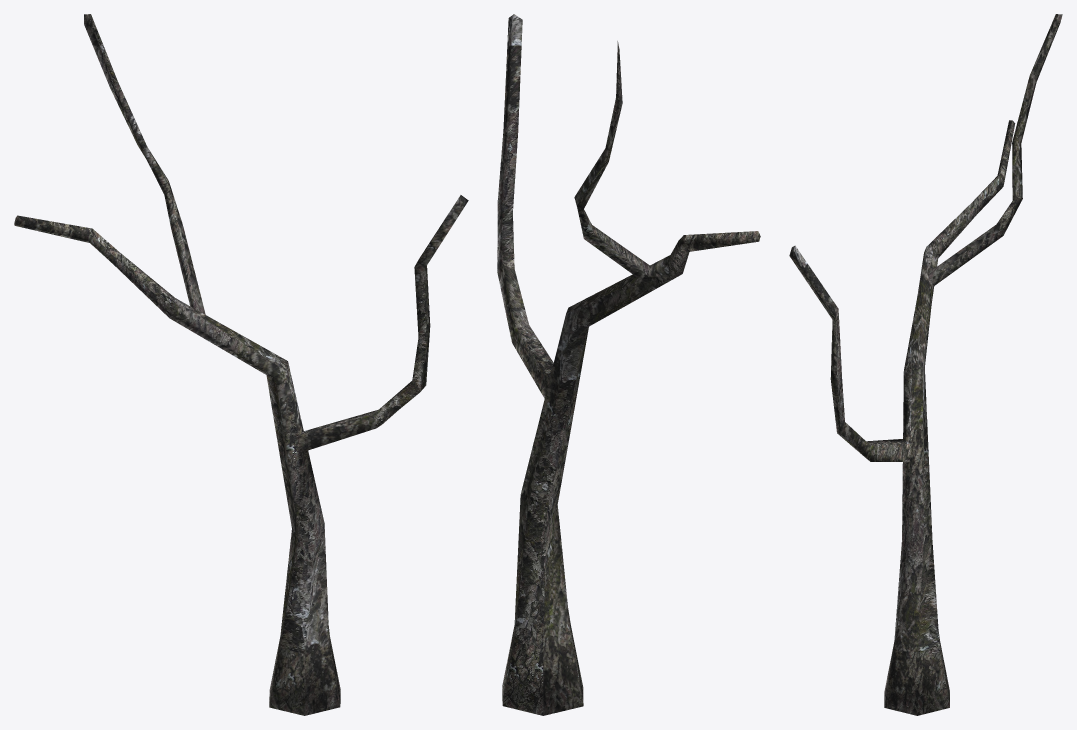
Rendered from tree1_trunk.obj.
3 renders of one model, left to right at view 1: azimuth 30°, elevation 25°; view 2: azimuth 150°, elevation 25°; view 3: azimuth 270°, elevation 25°, orthographic. The views are drawn at different scales.
Parts seen in each view (by area): view 1: Mesh1; view 2: Mesh1; view 3: Mesh1.
Boxes of the visible parts, x1,y1,x2,y2 form: Mesh1: (14, 14, 468, 715); Mesh1: (497, 14, 760, 715); Mesh1: (789, 14, 1062, 715).
Size of the model in its own units: 1.36 by 2.56 by 1.02.
